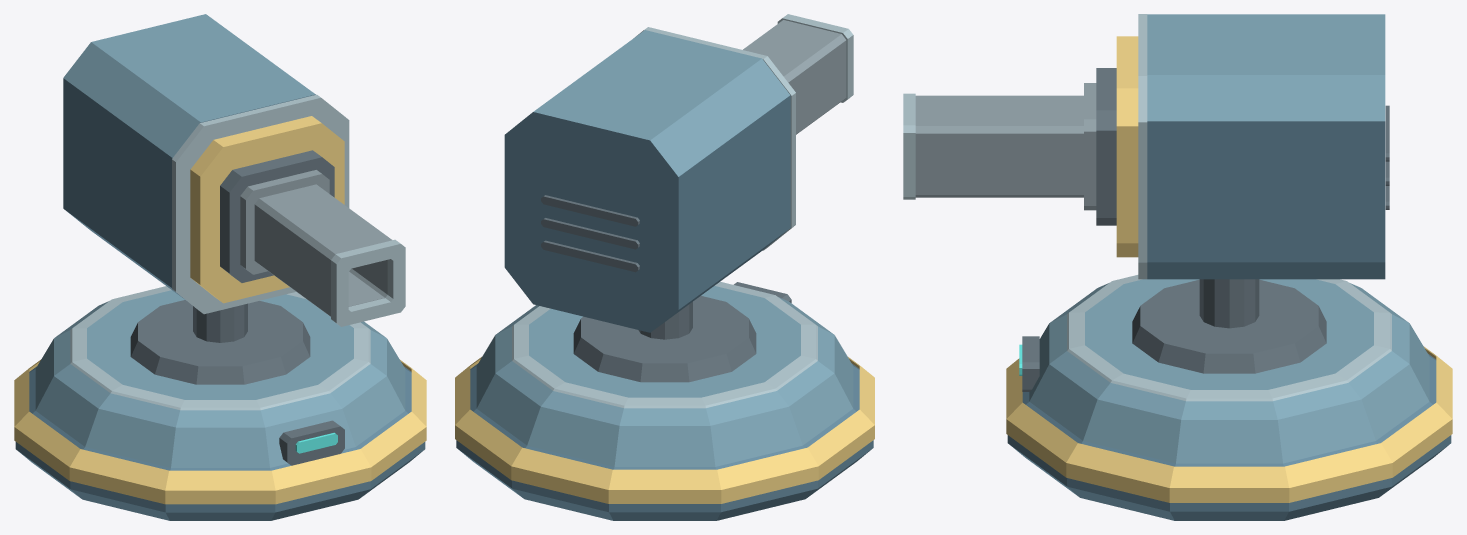
Rendered from Turret_MG_T1.fbx.
3 views of the same model, side by side, from view 1: azimuth 30°, elevation 25°; view 2: azimuth 150°, elevation 25°; view 3: azimuth 270°, elevation 25° (orthographic). The views are drawn at different scales.
Visible parts, largest first — view 1: MG_Base, MG_Barrel; view 2: MG_Base, MG_Barrel; view 3: MG_Barrel, MG_Base.
Boxes of the visible parts, <box> form: MG_Base: <box>14,286,426,520</box>; MG_Barrel: <box>63,14,405,326</box>; MG_Base: <box>455,281,874,520</box>; MG_Barrel: <box>504,14,853,332</box>; MG_Barrel: <box>903,14,1389,279</box>; MG_Base: <box>1006,275,1452,520</box>.
Bounding box in the file's own units: 218 × 210 × 268.
